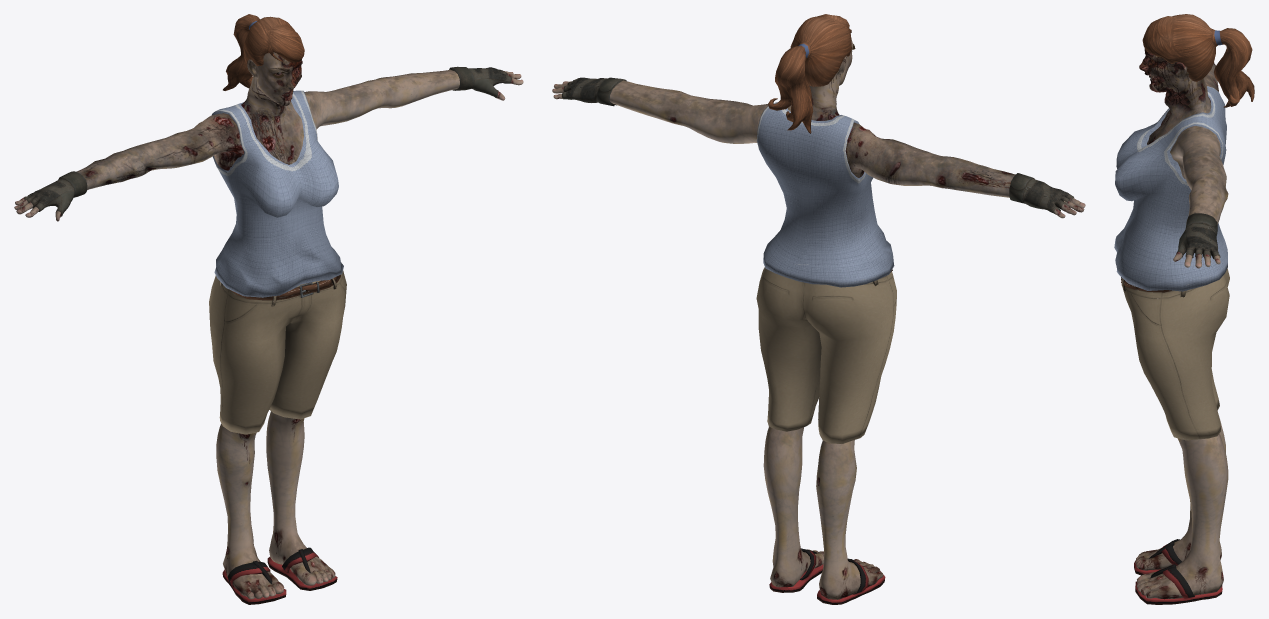
Rendered from Dead.obj.
3 views of the same model, side by side, from view 1: azimuth 30°, elevation 25°; view 2: azimuth 150°, elevation 25°; view 3: azimuth 270°, elevation 25° (orthographic).
Visible parts, largest first — view 1: Body, Tops, Bottoms, Hair, Gloves, Shoes; view 2: Body, Bottoms, Tops, Hair, Gloves, Shoes; view 3: Body, Tops, Bottoms, Hair, Shoes, Gloves.
Part boxes in pixels (<box>): Body: <box>14,52,523,599</box>; Tops: <box>212,90,343,297</box>; Bottoms: <box>209,270,346,434</box>; Hair: <box>223,14,304,90</box>; Gloves: <box>24,66,511,216</box>; Shoes: <box>222,547,337,604</box>; Body: <box>552,37,1085,599</box>; Bottoms: <box>756,267,896,443</box>; Tops: <box>756,102,894,287</box>; Hair: <box>768,14,851,133</box>; Gloves: <box>561,77,1073,214</box>; Shoes: <box>769,548,885,604</box>; Body: <box>1135,48,1228,599</box>; Tops: <box>1114,86,1227,291</box>; Bottoms: <box>1121,268,1229,440</box>; Hair: <box>1142,14,1254,107</box>; Shoes: <box>1134,539,1222,604</box>; Gloves: <box>1176,213,1220,259</box>.
Size of the model in its own units: 170 by 177 by 39.78.
